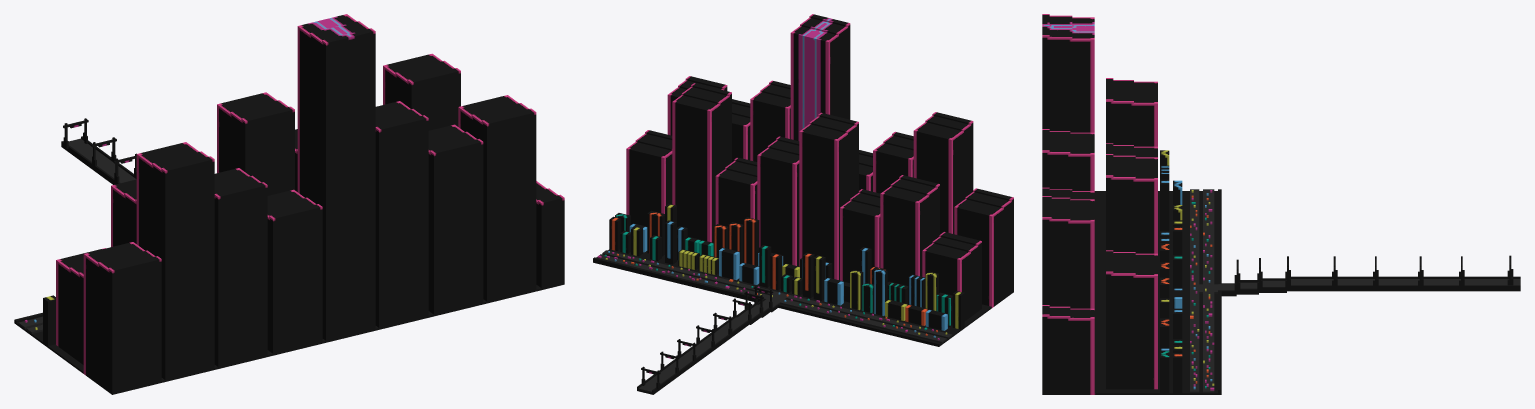
The model's file is CityBackground-1-City.fbx.
The picture shows the model from 3 angles, left to right: view 1: azimuth 30°, elevation 25°; view 2: azimuth 150°, elevation 25°; view 3: azimuth 270°, elevation 25°; orthographic projection. The views are drawn at different scales.
Visible parts, largest first — view 1: City; view 2: City; view 3: City.
Part boxes in pixels (left/top/right/bottom): City: left=14, top=14, right=564, bottom=394; City: left=593, top=14, right=1013, bottom=394; City: left=1042, top=14, right=1520, bottom=394.
Bounding box in the file's own units: 256 × 162 × 256.
